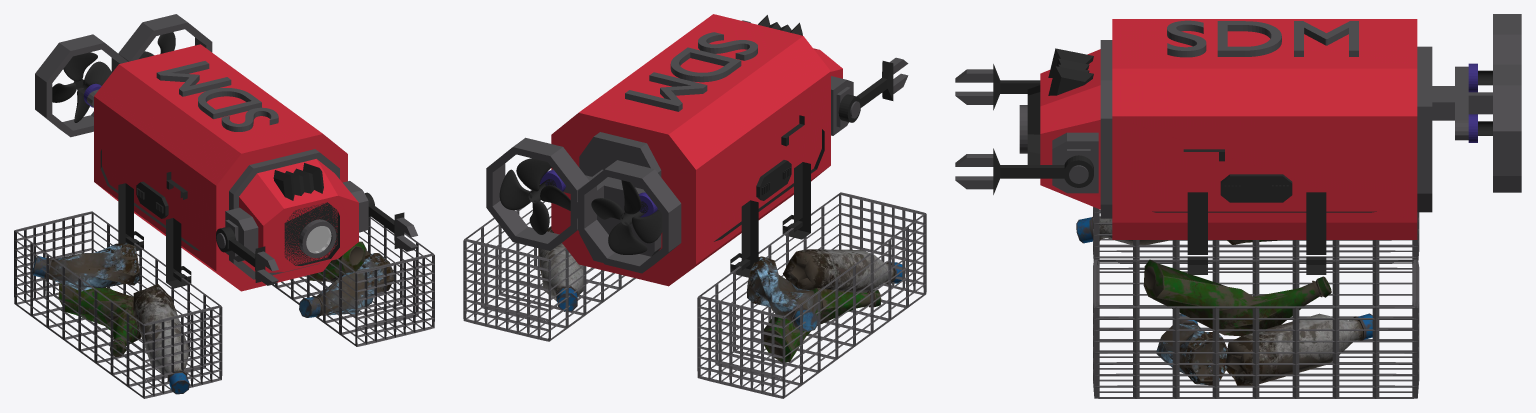
The model's file is collector_manual_with_2bottles.glb.
3 views of the same model, side by side, from view 1: azimuth 30°, elevation 25°; view 2: azimuth 150°, elevation 25°; view 3: azimuth 270°, elevation 25° (orthographic). The views are drawn at different scales.
Parts seen in each view (by area): view 1: main_body, Plastic_Bottle_01_GEO.007, camera_lens; view 2: main_body, Plastic_Bottle_01_GEO.007; view 3: main_body, Plastic_Bottle_01_GEO.007.
Boxes of the visible parts, bbox=[...] form: main_body: bbox=[14, 14, 434, 398]; Plastic_Bottle_01_GEO.007: bbox=[32, 241, 393, 394]; camera_lens: bbox=[306, 226, 331, 253]; main_body: bbox=[463, 14, 926, 398]; Plastic_Bottle_01_GEO.007: bbox=[538, 227, 905, 362]; main_body: bbox=[955, 14, 1521, 398]; Plastic_Bottle_01_GEO.007: bbox=[1076, 216, 1372, 385].
Size of the model in its own units: 4.18 by 2.95 by 5.53.
3 materials, 3 textured.
